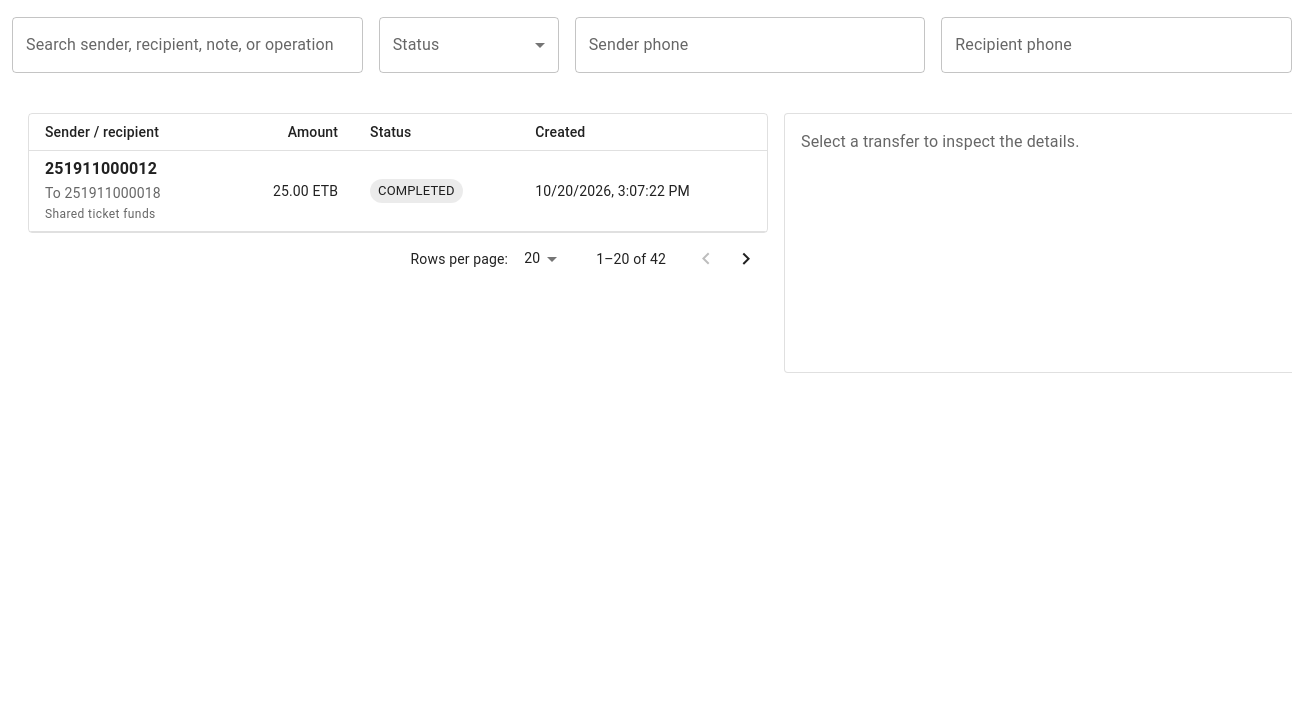
Test case: WalletTransfersPage › renders a selectable transfer row and its detail panel
Expected: the text "Shared ticket funds" is shown, [45,207,156,221]
Click the button with test id "wallet-transfer-row-24" at [398, 191], box [29,150,767,231]
(page scrolled)
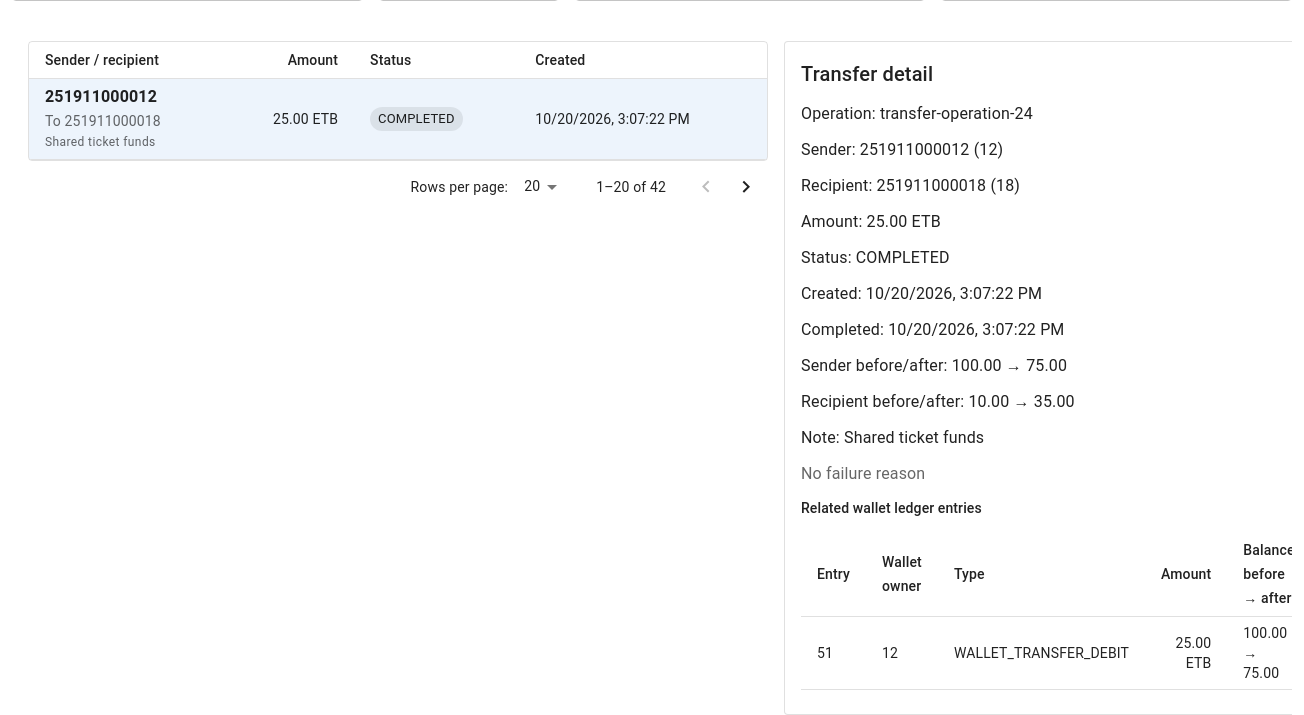
Expected: the heading "Transfer detail" is shown, [801,62,933,86]
Expected: the text "Operation: transfer-operation-24" is shown, [801,104,1033,123]
Expected: the text "WALLET_TRANSFER_DEBIT" is shown, [938,616,1145,689]
